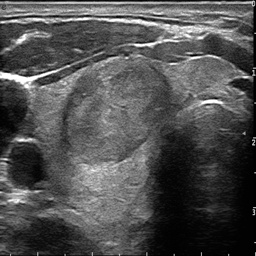mass: (64, 60, 171, 159)
